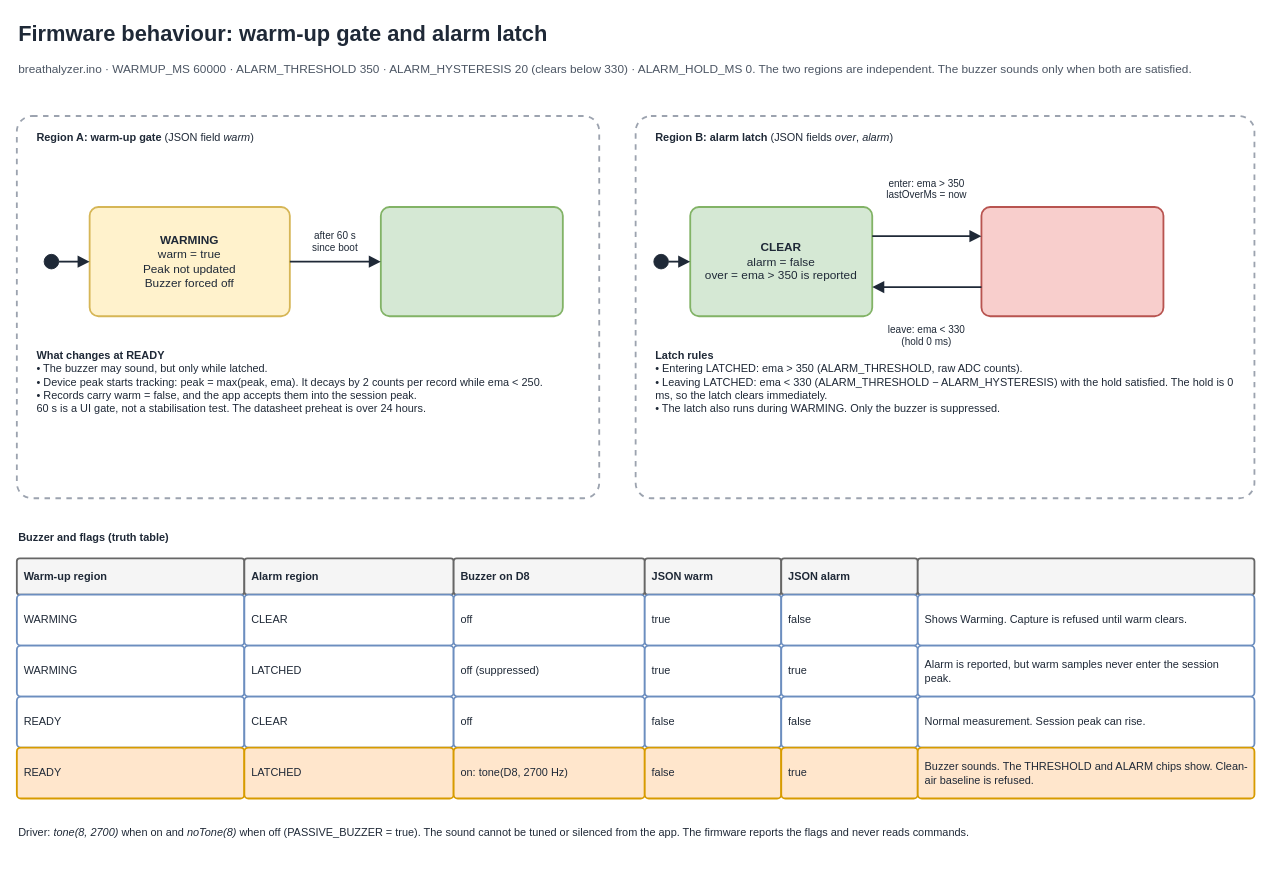
Image size: 1270x881. Some labels were removed from this diagram. The shapes that lost their labels are listed below. From the top down, each one's box as (x1, y1, x2, y2) in pixels, then its label:
(379, 206, 563, 317): READY warm = false Device peak tracked Buzzer follows the latch
(980, 206, 1164, 317): LATCHED alarm = true Held while ema ≥ 330
(916, 557, 1255, 595): What the app does with it
